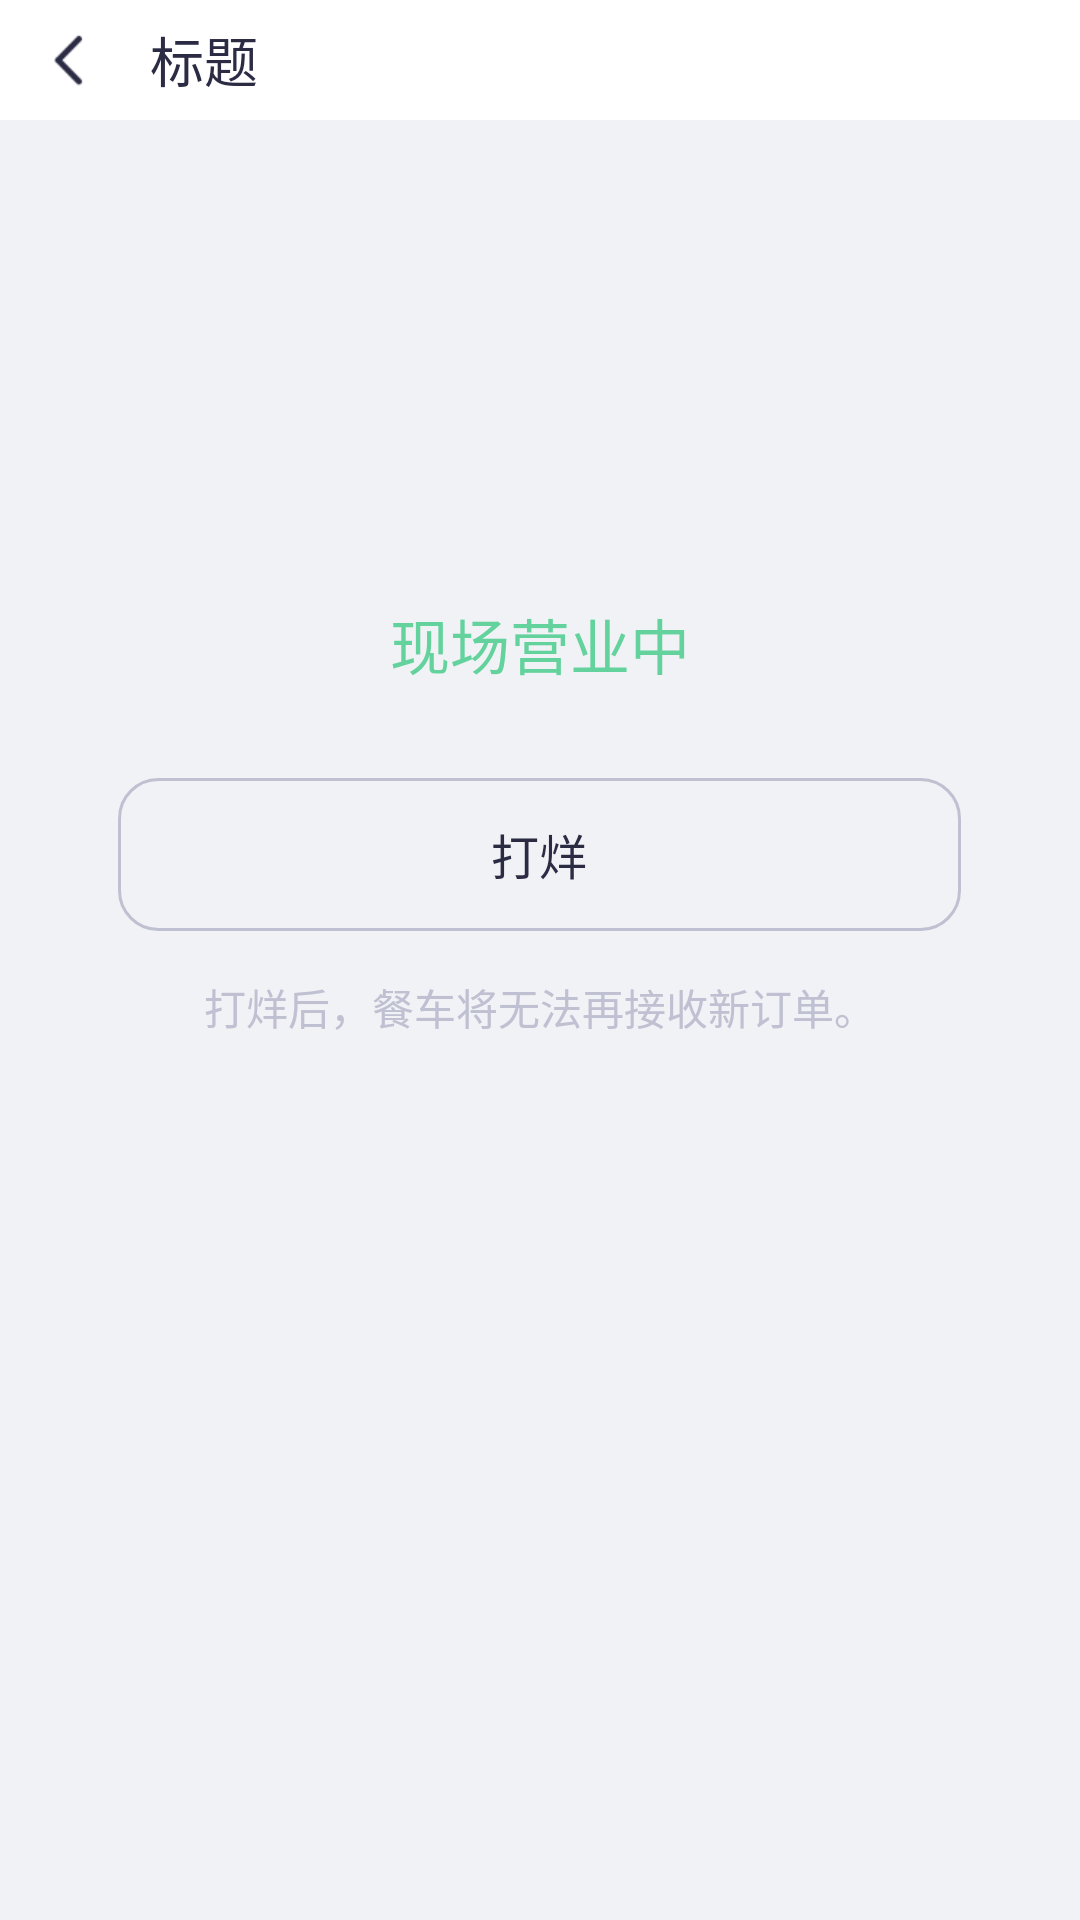

Icon bounding boxes for this 1080 x 1920 phone screenshot, format region(x1, y1, x2, y2):
return: region(54, 35, 83, 86)
